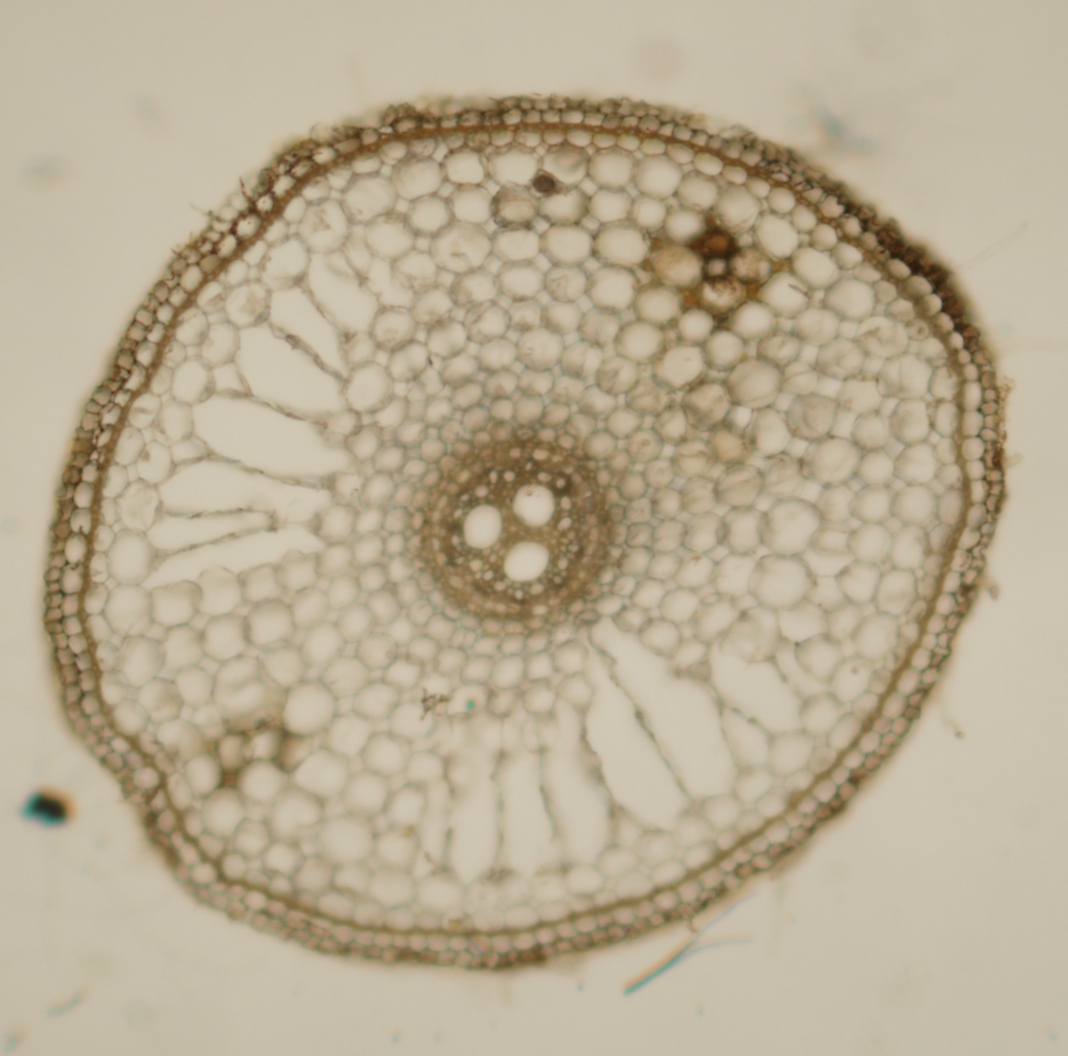lm: (512, 483, 555, 527), (504, 540, 550, 581), (463, 504, 502, 549)
